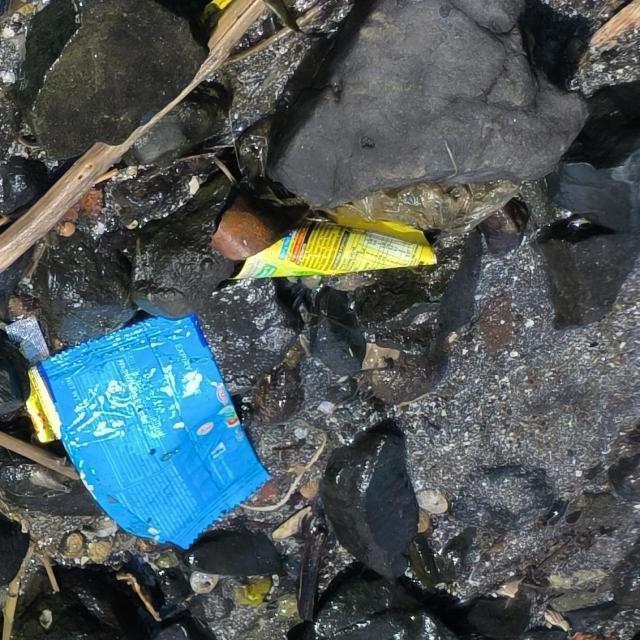litter: (23, 311, 270, 553), (228, 218, 438, 282)
